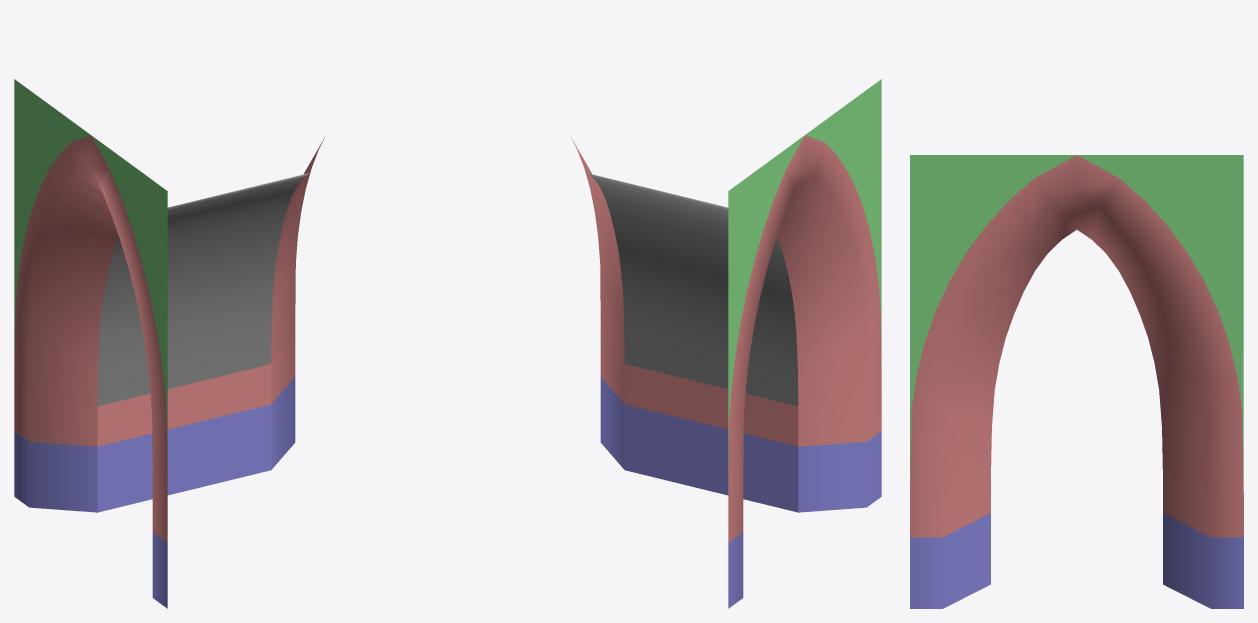
File: sylentemple_ent_main.gltf
3 renders of one model, left to right at view 1: azimuth 30°, elevation 25°; view 2: azimuth 150°, elevation 25°; view 3: azimuth 270°, elevation 25°, orthographic. The views are drawn at different scales.
Visible parts, largest first — view 1: sylentemple_ent_main; view 2: sylentemple_ent_main; view 3: sylentemple_ent_main.
Boxes of the visible parts, <box> form: sylentemple_ent_main: <box>14,79,325,608</box>; sylentemple_ent_main: <box>570,79,881,608</box>; sylentemple_ent_main: <box>910,155,1243,608</box>.
Size of the model in its own units: 5.12 by 7.68 by 5.12.
